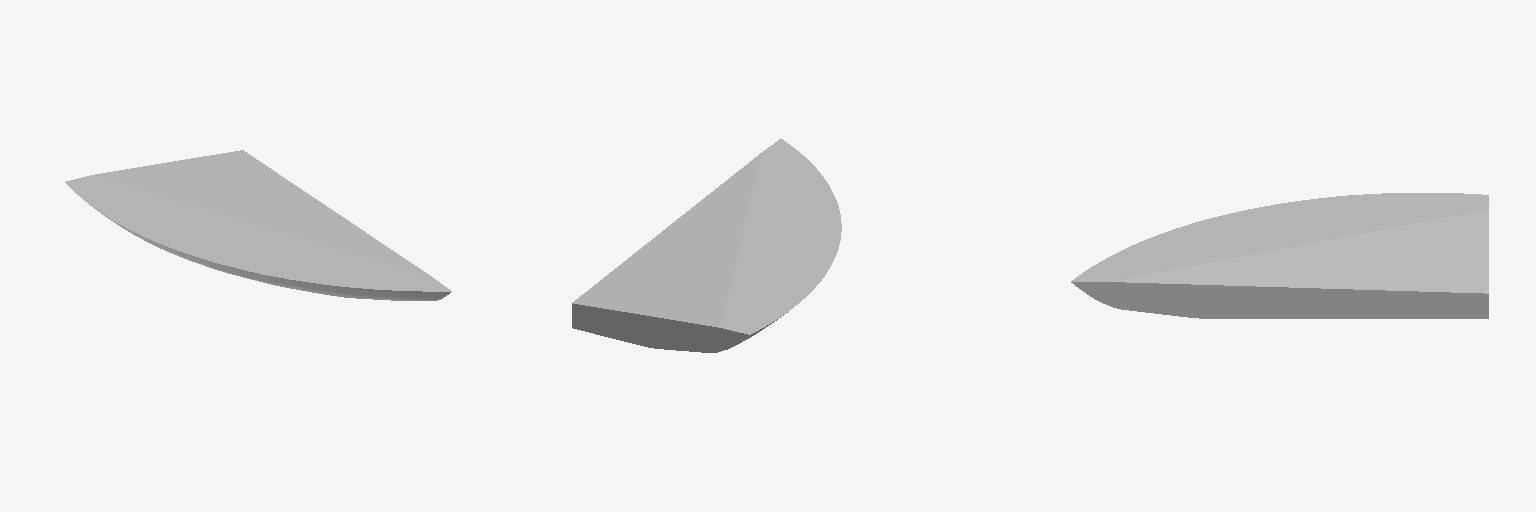
The model's file is pan_collision_3.obj.
3 views of the same model, side by side, from view 1: azimuth 30°, elevation 25°; view 2: azimuth 150°, elevation 25°; view 3: azimuth 270°, elevation 25° (orthographic).
Size of the model in its own units: 0.0586 by 0.0114 by 0.116.